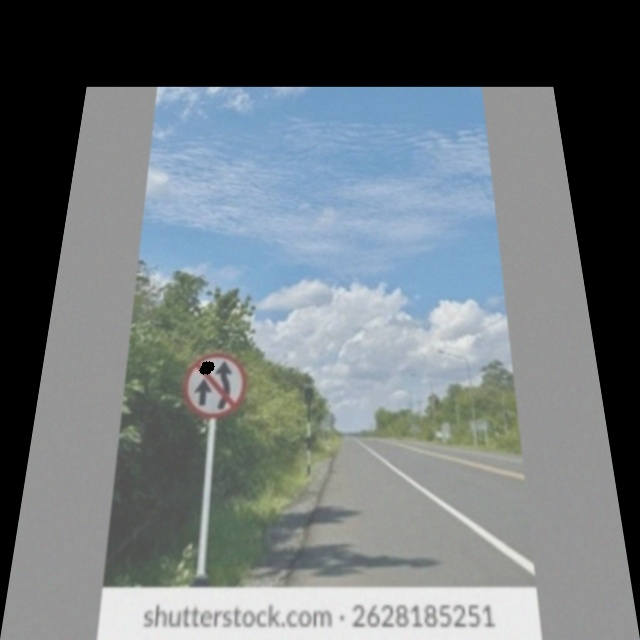Overtaking_Prohibited: (179, 354, 247, 418)
